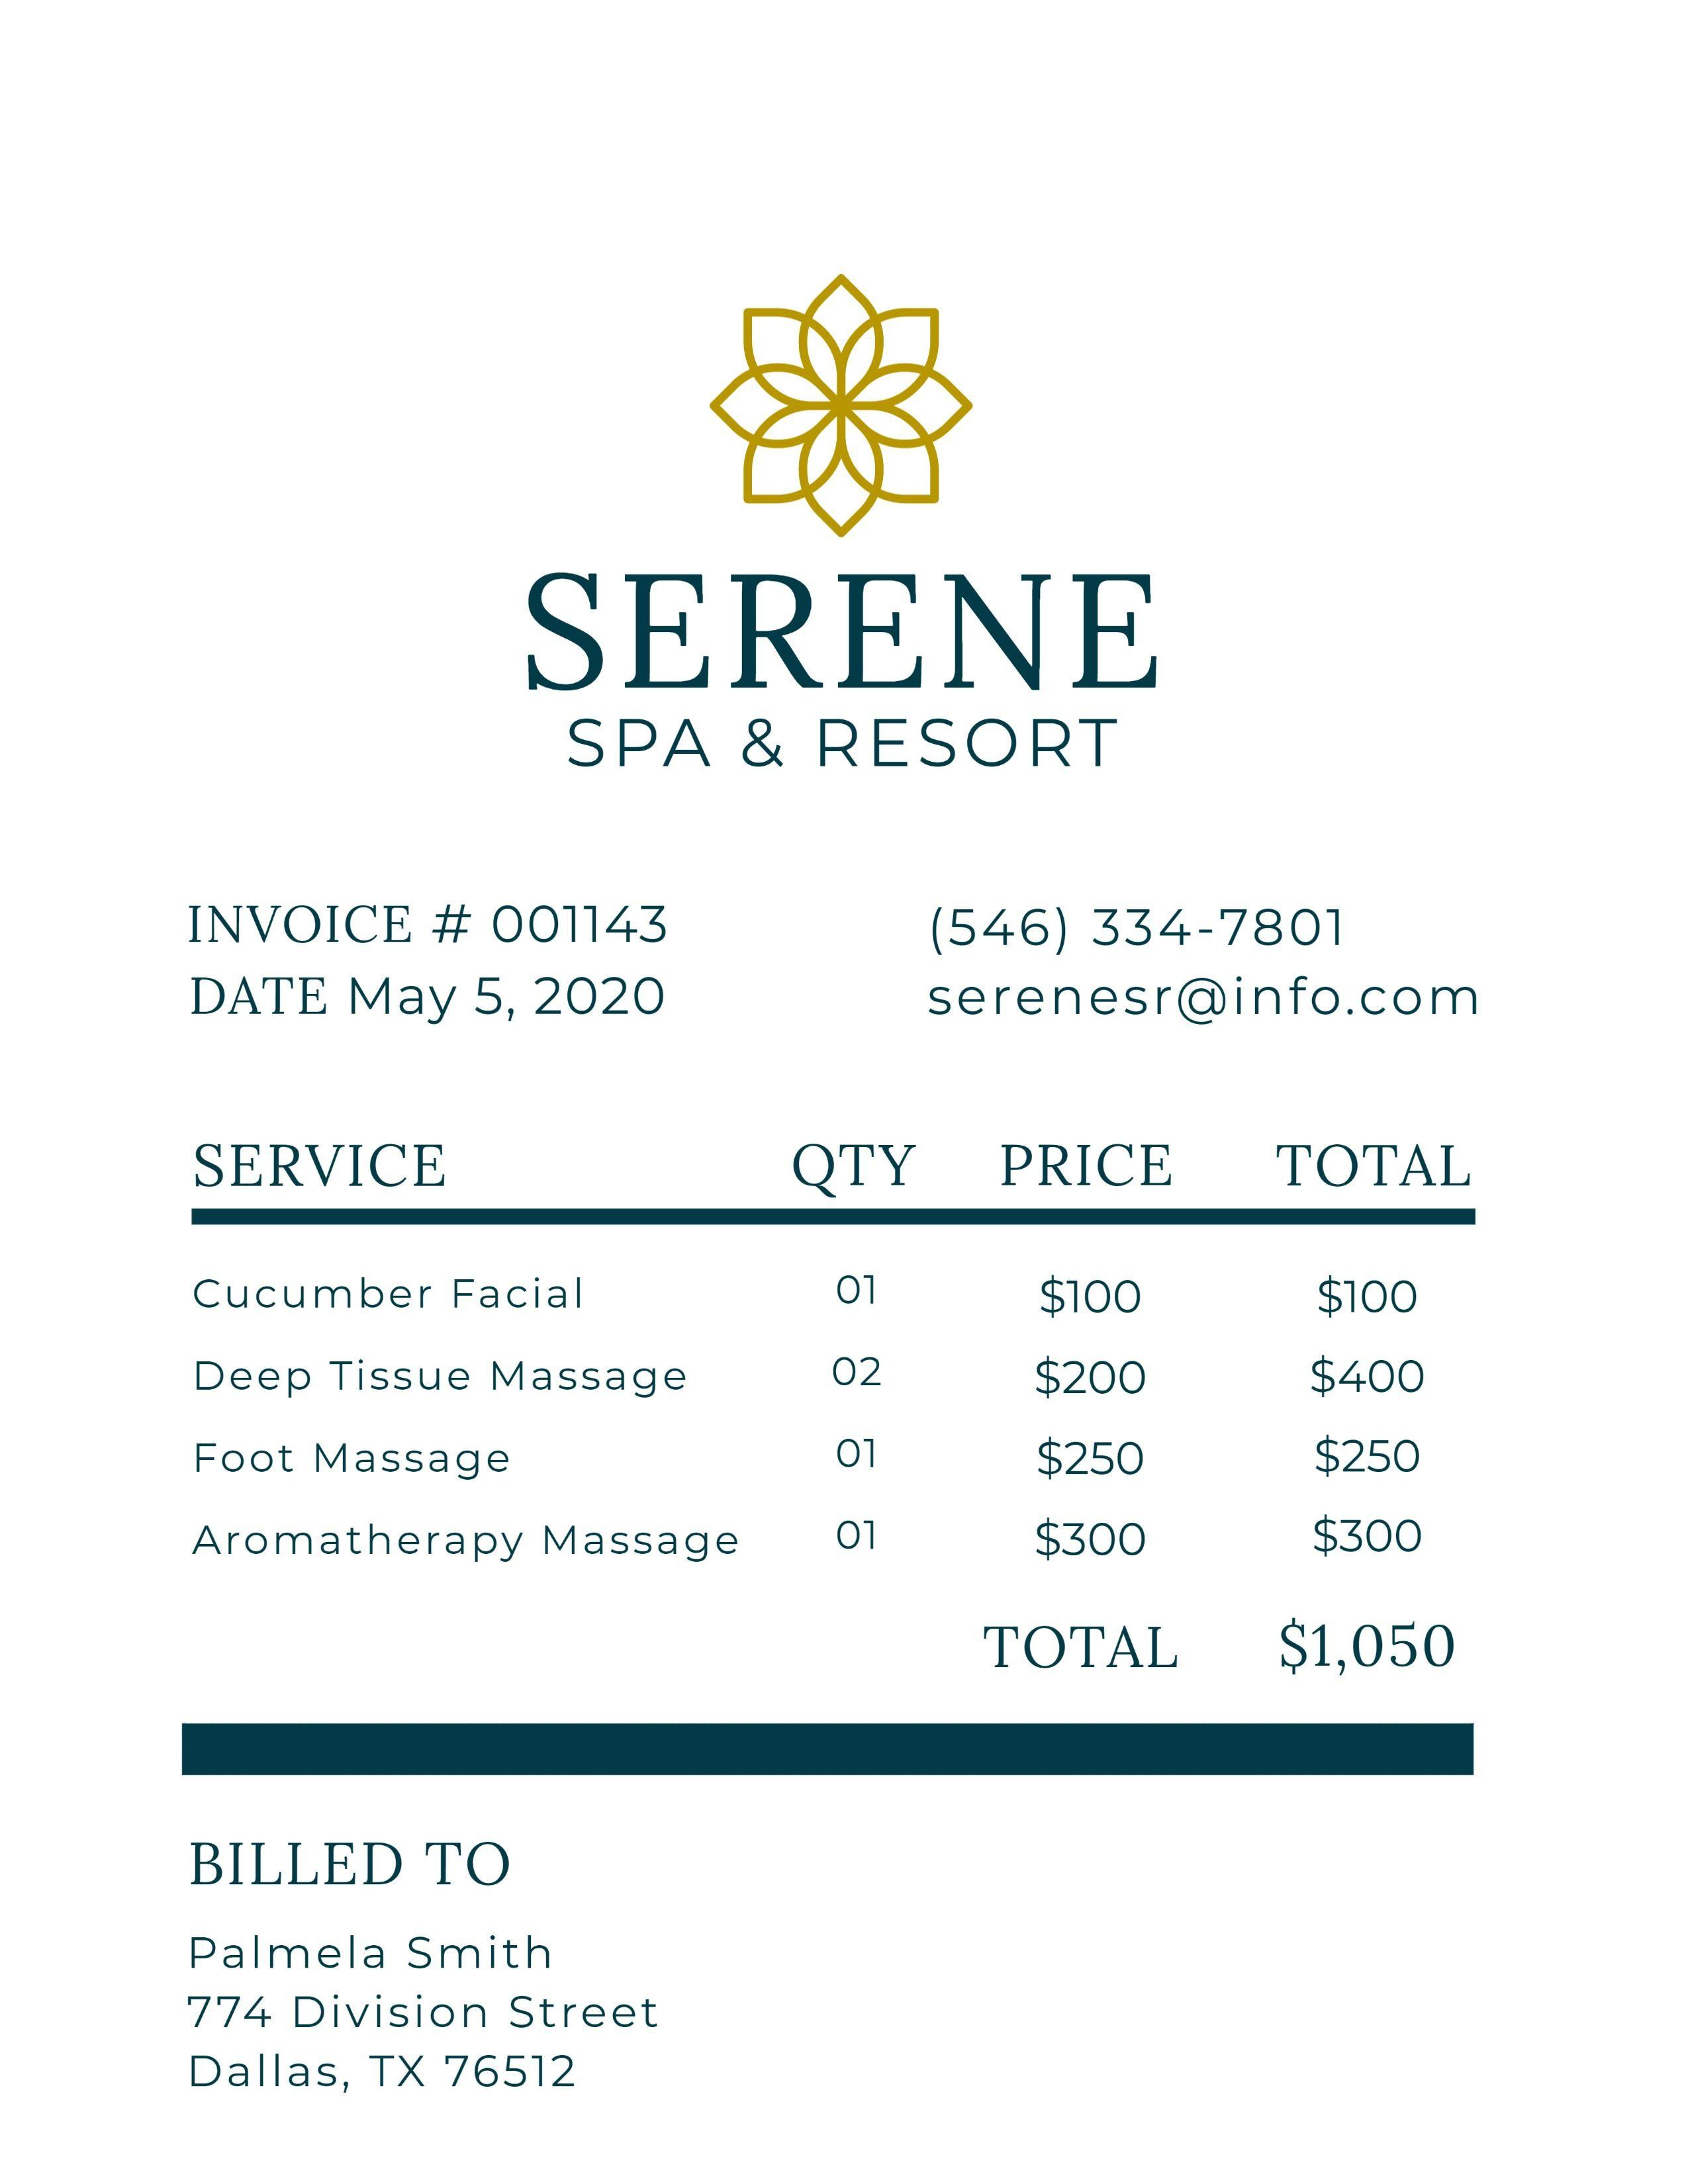ROI: (173, 1156, 1466, 1582), (504, 547, 1233, 801), (179, 1829, 674, 2125), (161, 893, 684, 1046), (970, 1613, 1474, 1690)
